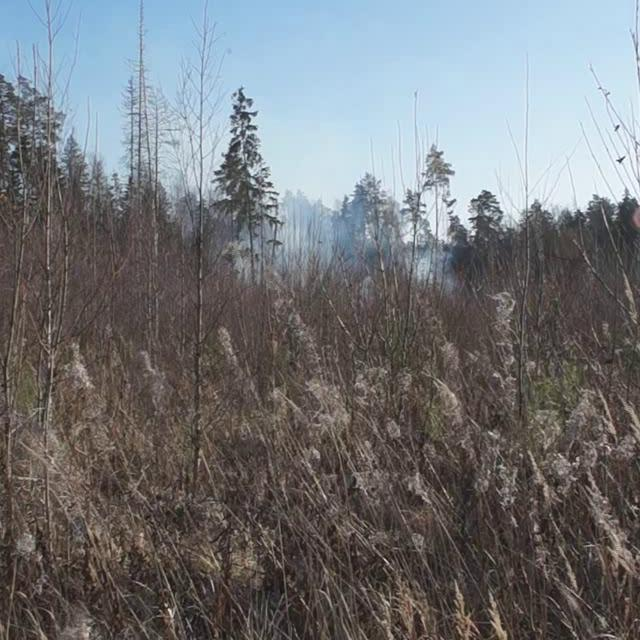Smoke: (155, 158, 467, 306)
